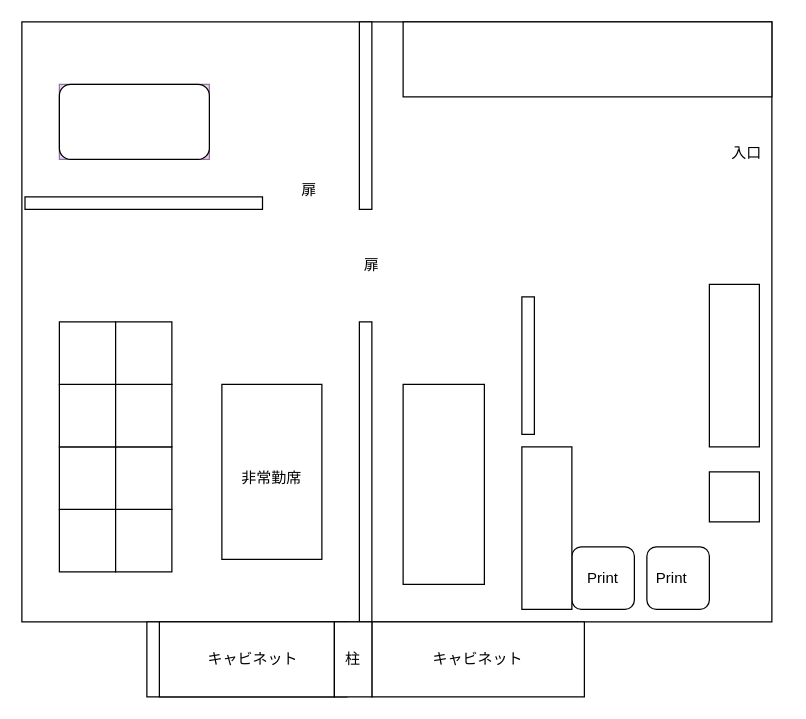
The diagram is 806 pixels wide and 719 high, and some of its shapes have lost their labels. The shapes that lost their labels are listed below. From the top down, each one's centre as x and y in pixels, then its label:
At (x=587, y=59): "本棚".
At (x=133, y=121): "ベッド".
At (x=733, y=496): "NＷ".
